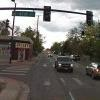Traffic light: (40, 2, 93, 30)
